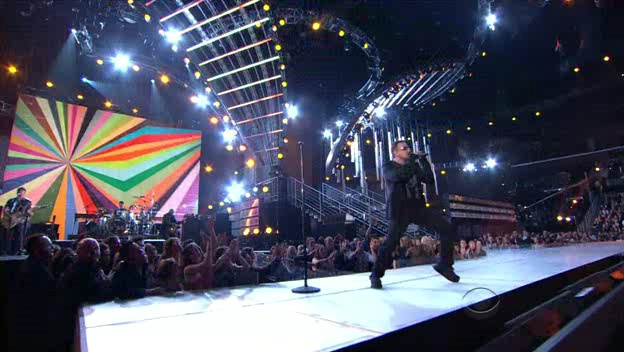person: (379, 142, 436, 240), (376, 142, 433, 240), (382, 142, 439, 240), (379, 139, 436, 237), (379, 145, 436, 243)
target_negative: (167, 118, 493, 205), (71, 243, 356, 293), (305, 290, 507, 332), (537, 133, 574, 251), (508, 207, 526, 331), (517, 13, 594, 41)
